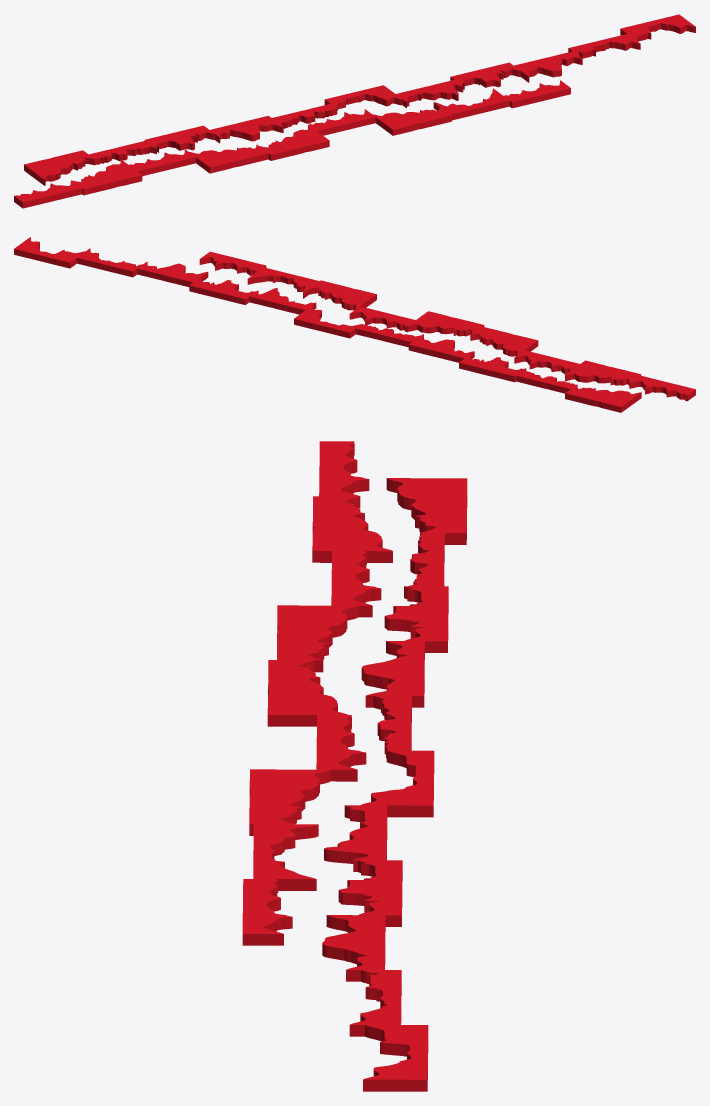
Rendered from Level1.fbx.
The picture shows the model from 3 angles, top to bottom: view 1: azimuth 30°, elevation 25°; view 2: azimuth 150°, elevation 25°; view 3: azimuth 270°, elevation 25°; orthographic projection. The views are drawn at different scales.
Parts seen in each view (by area): view 1: Grid.010; view 2: Grid.010; view 3: Grid.010.
Part boxes in pixels (<box>): Grid.010: <box>14,14,695,208</box>; Grid.010: <box>14,237,695,412</box>; Grid.010: <box>242,441,467,1091</box>.
Bounding box in the file's own units: 23.28 × 0.2131 × 3.46.
